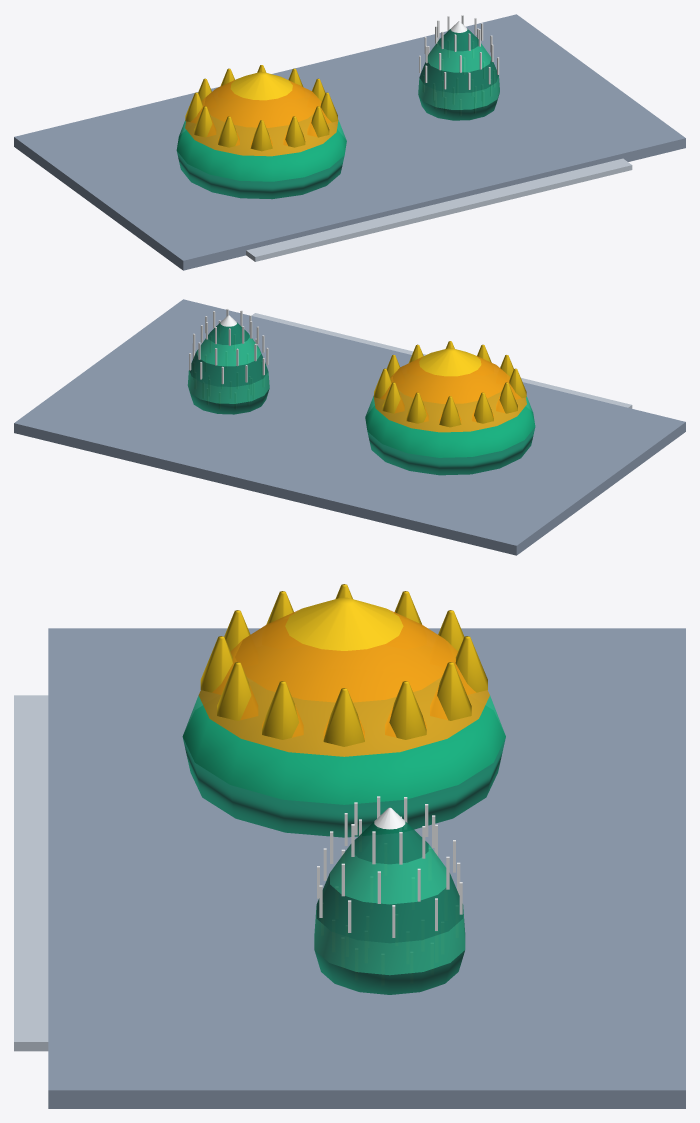
Rendered from lm_01_lam_vien_square_base.glb.
The picture shows the model from 3 angles, top to bottom: view 1: azimuth 30°, elevation 25°; view 2: azimuth 150°, elevation 25°; view 3: azimuth 270°, elevation 25°; orthographic projection. The views are drawn at different scales.
Parts seen in each view (by area): view 1: plaza_deck, daquy_dome_0, plaza_step_front, daquy_dome_1, daquy_dome_3, daquy_dome_2, atiso_tier_2, atiso_tier_1, daquy_dome_4, atiso_tier_3, atiso_tier_0, atiso_tier_4 (+4 smaller); view 2: plaza_deck, daquy_dome_0, daquy_dome_1, daquy_dome_3, daquy_dome_2, atiso_tier_2, atiso_tier_1, daquy_dome_4, atiso_tier_3, plaza_step_front, atiso_tier_0, atiso_tier_4 (+3 smaller); view 3: plaza_deck, daquy_dome_0, daquy_dome_1, plaza_step_front, daquy_dome_3, daquy_dome_2, atiso_tier_2, atiso_tier_1, daquy_dome_4, atiso_tier_3, atiso_tier_0, atiso_tier_4 (+7 smaller).
Boxes of the visible parts, box(x1,y1,x2,y2) form: plaza_deck: box(14, 14, 685, 270); daquy_dome_0: box(177, 130, 345, 199); plaza_step_front: box(246, 158, 632, 261); daquy_dome_1: box(176, 120, 346, 181); daquy_dome_3: box(204, 78, 319, 127); daquy_dome_2: box(185, 92, 338, 156); atiso_tier_2: box(419, 60, 498, 93); atiso_tier_1: box(418, 76, 499, 109); daquy_dome_4: box(230, 72, 292, 100); atiso_tier_3: box(427, 40, 491, 72); atiso_tier_0: box(418, 94, 499, 120); atiso_tier_4: box(438, 28, 478, 51); plaza_deck: box(14, 299, 685, 555); daquy_dome_0: box(366, 406, 535, 475); daquy_dome_1: box(365, 396, 535, 457); daquy_dome_3: box(392, 355, 507, 403); daquy_dome_2: box(373, 368, 526, 432); atiso_tier_2: box(189, 351, 268, 386); atiso_tier_1: box(187, 370, 269, 403); daquy_dome_4: box(419, 348, 481, 376); atiso_tier_3: box(196, 334, 261, 366); plaza_step_front: box(251, 313, 632, 408); atiso_tier_0: box(189, 388, 269, 414); atiso_tier_4: box(208, 322, 249, 345); plaza_deck: box(48, 628, 685, 1108); daquy_dome_0: box(182, 706, 505, 837); daquy_dome_1: box(182, 695, 505, 804); plaza_step_front: box(14, 695, 48, 1051); daquy_dome_3: box(235, 609, 453, 702); daquy_dome_2: box(198, 640, 489, 756); atiso_tier_2: box(316, 873, 462, 943); atiso_tier_1: box(314, 905, 465, 975); daquy_dome_4: box(285, 597, 403, 650); atiso_tier_3: box(330, 844, 446, 904); atiso_tier_0: box(314, 950, 464, 994); atiso_tier_4: box(351, 821, 428, 864).
Bounding box in the file's own units: 96 × 18.4 × 59.
